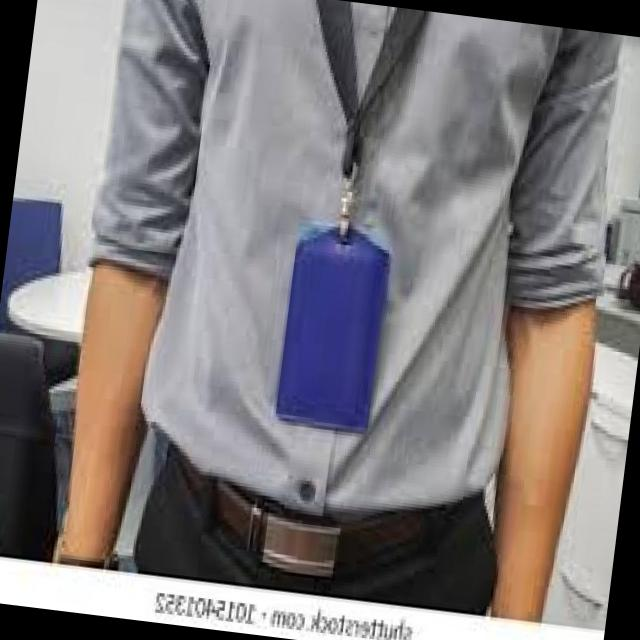id_card: (248, 0, 434, 439)
